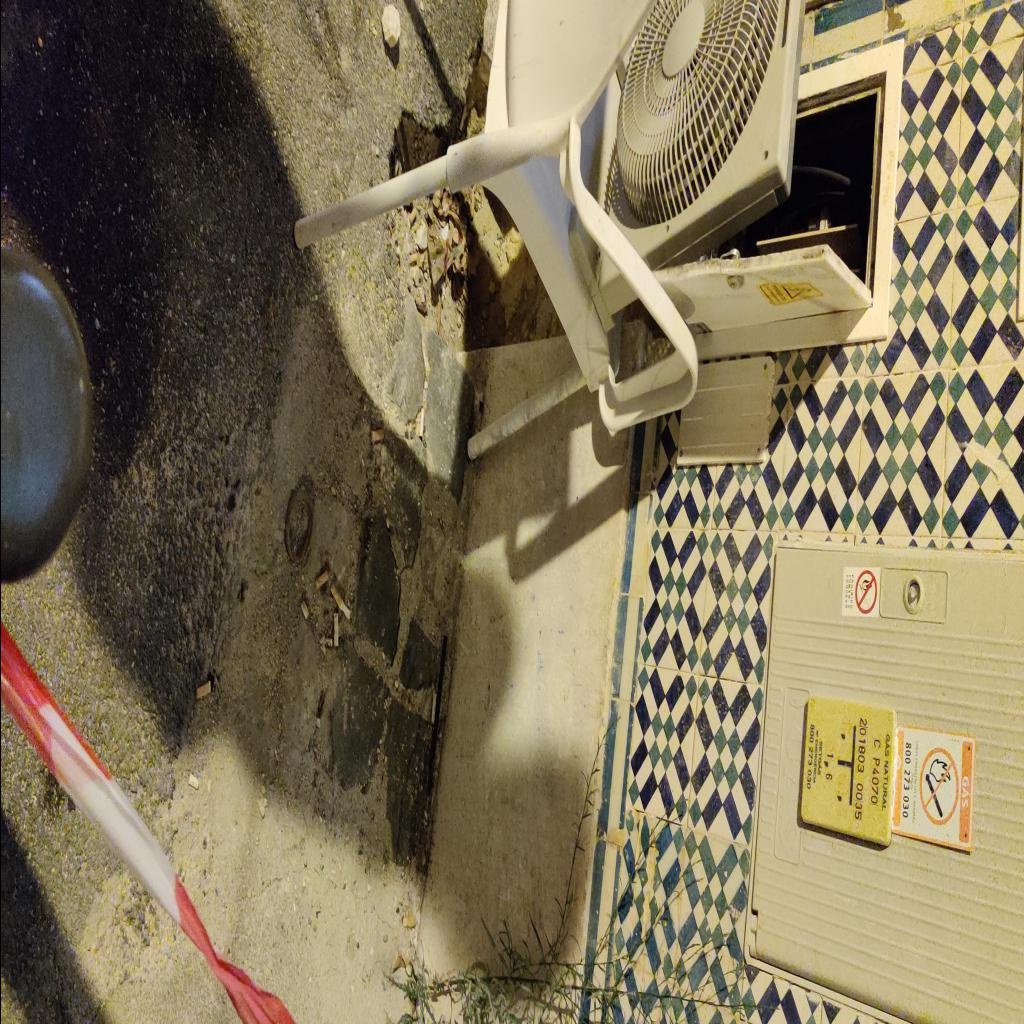Cigarette: (330, 582, 350, 620), (194, 681, 210, 701), (457, 104, 467, 136), (314, 570, 328, 590), (429, 690, 436, 724), (332, 612, 338, 647), (370, 427, 382, 444), (186, 774, 198, 790), (408, 252, 417, 265), (419, 408, 423, 436)
Plastic film: (428, 222, 456, 290)
